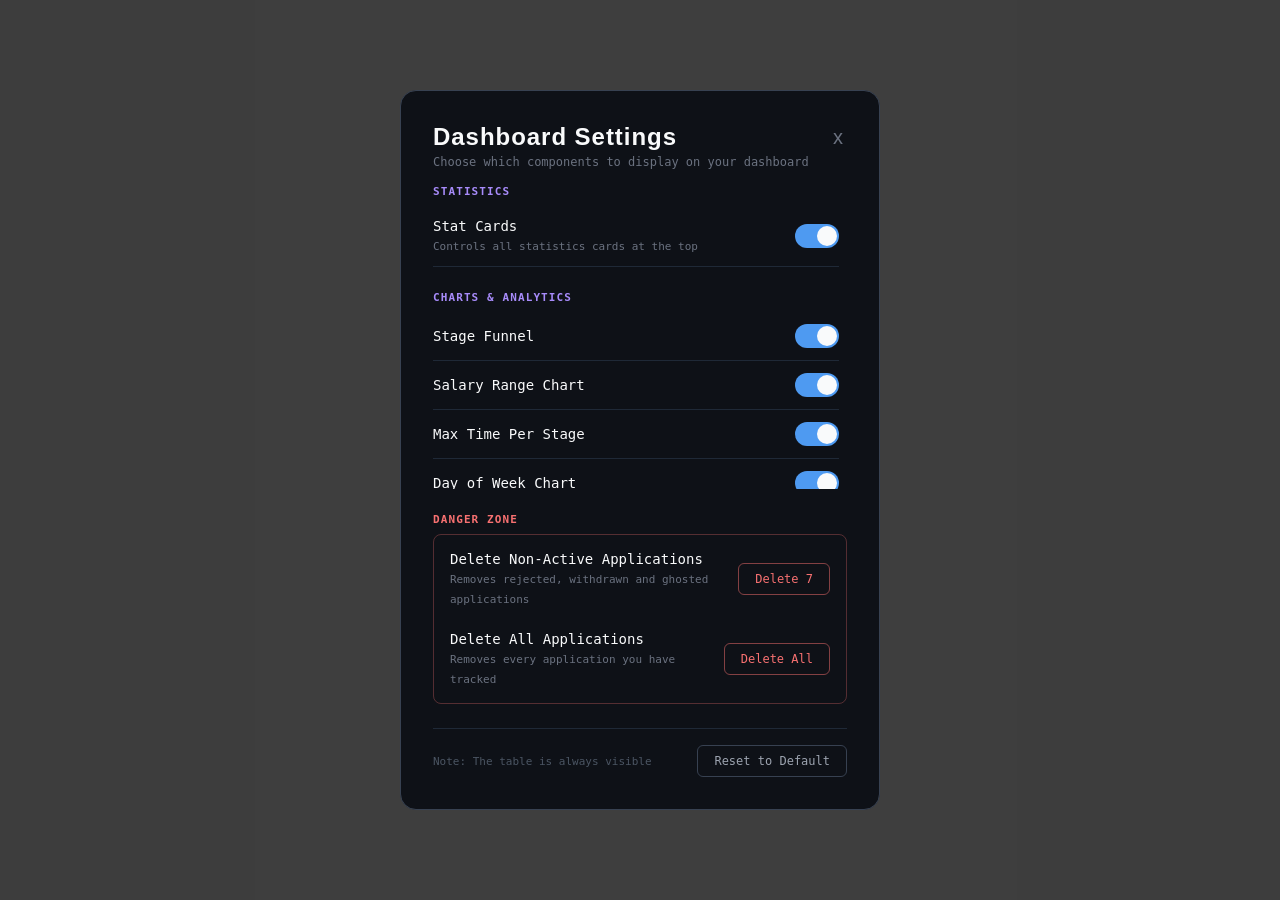
Test: DashboardSettingsModal › danger zone › should open the delete all confirmation when its button is clicked
Click the button "Delete All".
click(777, 659)  # box [724,643,830,675]
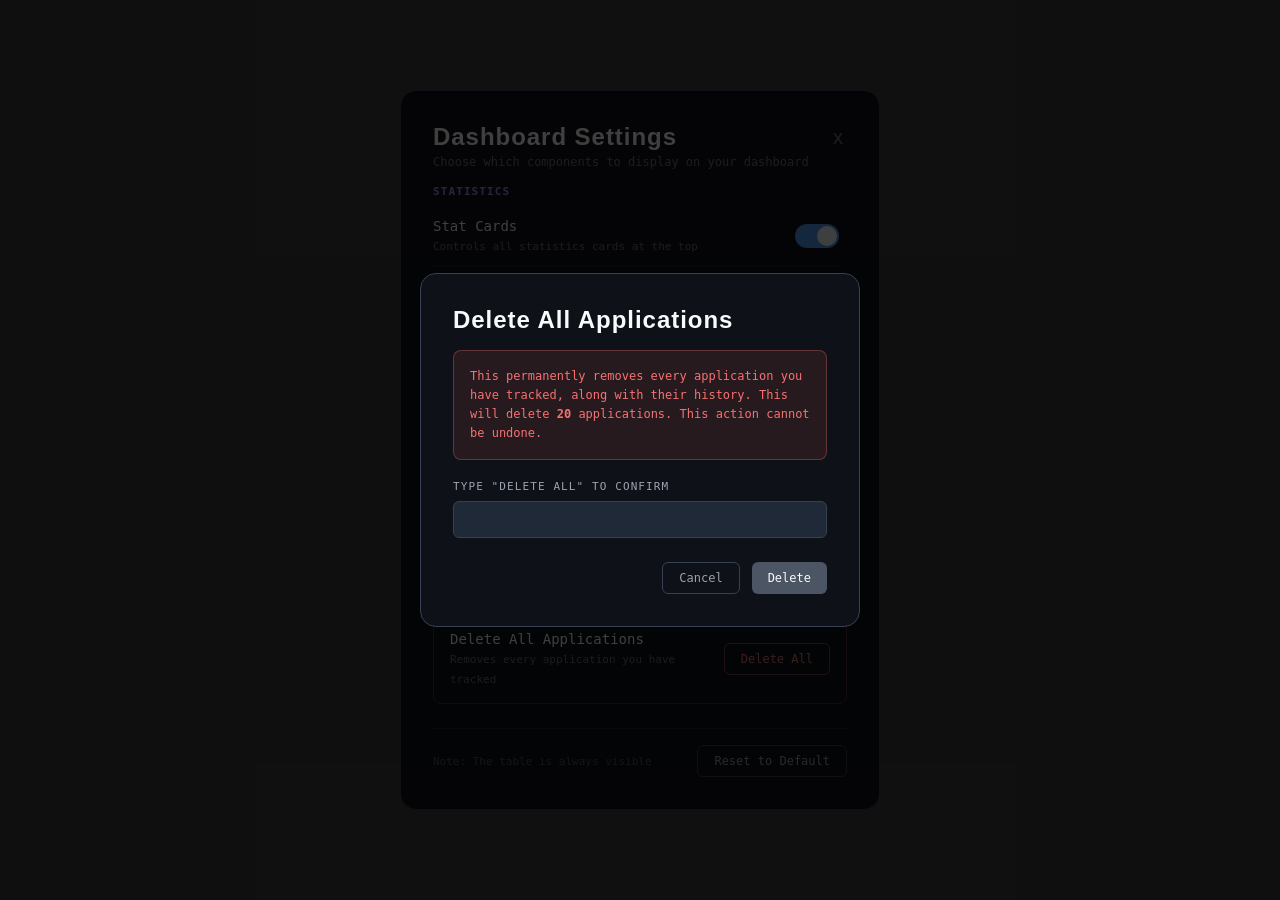
Expected: the dialog "Delete All Applications" is shown, [420,273,860,627]
